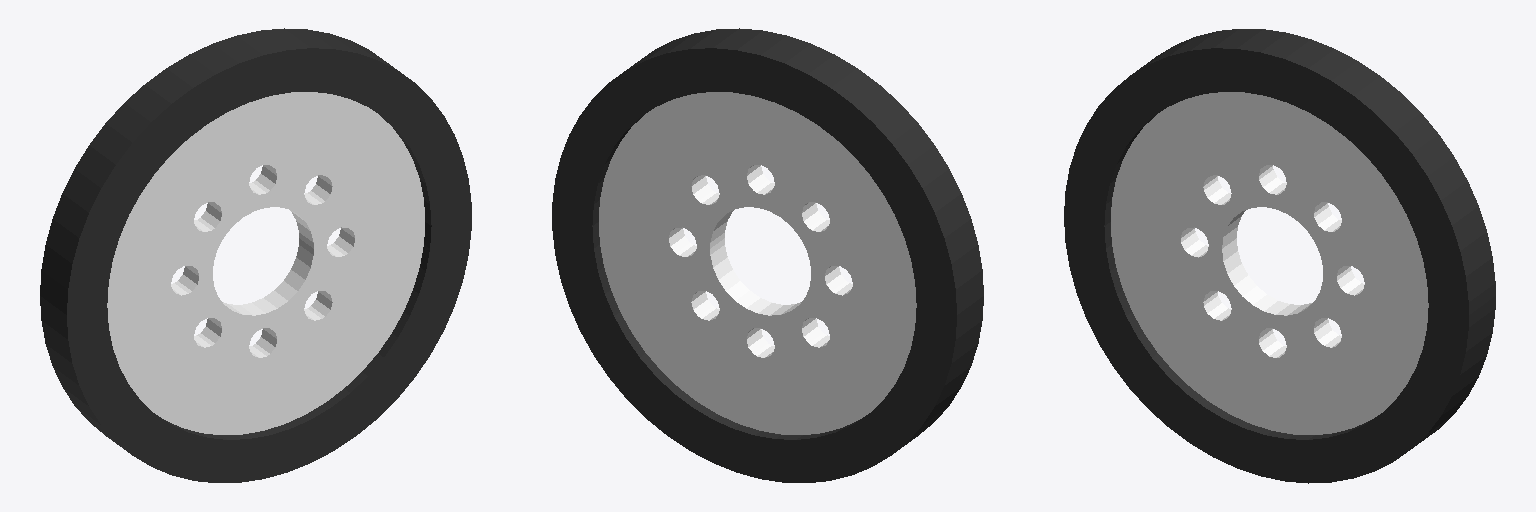
File: ROB-12453.obj
The picture shows the model from 3 angles: view 1: azimuth 30°, elevation 25°; view 2: azimuth 150°, elevation 25°; view 3: azimuth 330°, elevation 25°; orthographic projection.
Parts seen in each view (by area): view 1: mesh 2 Boss-Extrude1, mesh 1 RO; view 2: mesh 2 Boss-Extrude1, mesh 1 RO; view 3: mesh 2 Boss-Extrude1, mesh 1 RO.
Boxes of the visible parts, x1,y1,x2,y2 form: mesh 2 Boss-Extrude1: [107, 92, 424, 434]; mesh 1 RO: [40, 28, 471, 482]; mesh 2 Boss-Extrude1: [599, 92, 916, 434]; mesh 1 RO: [552, 28, 983, 482]; mesh 2 Boss-Extrude1: [1111, 92, 1428, 434]; mesh 1 RO: [1064, 29, 1495, 483].
Bounding box in the file's own units: 0.0508 × 0.0508 × 0.0058.